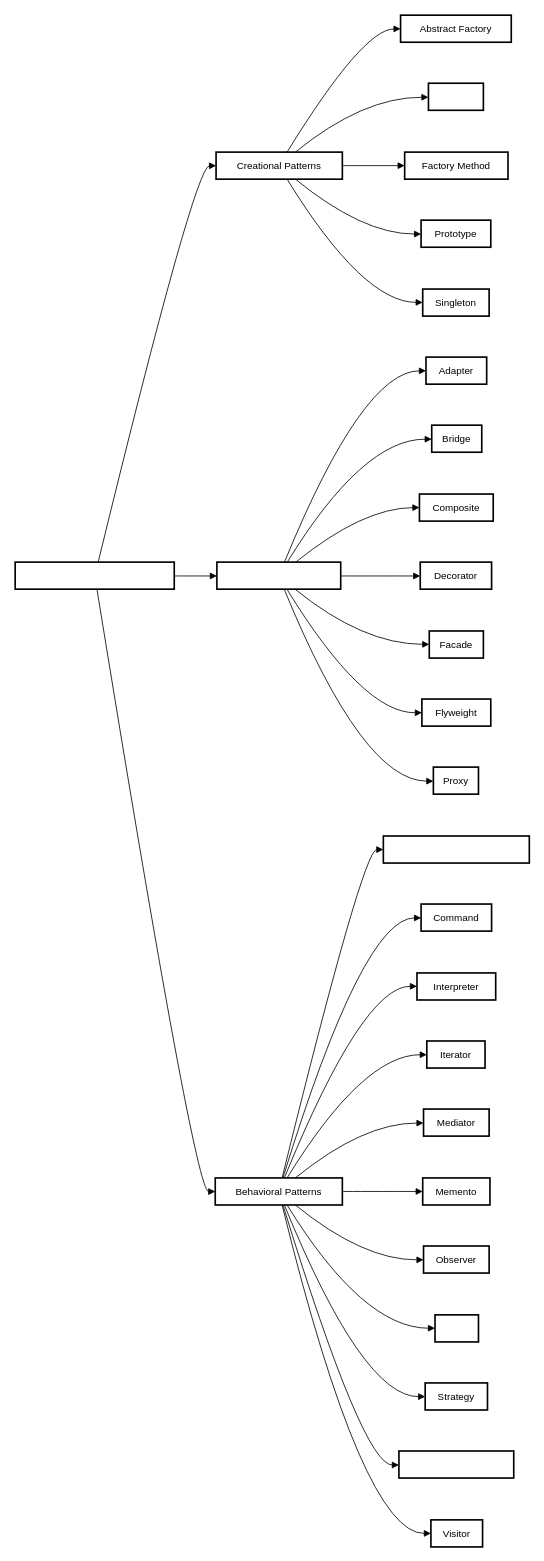
Image size: 544x1561. Some labels were removed from this diagram. The shapes that lost their labels are listed below. From the top down, each one's box as (x1, y1, x2, y2) in pixels, then its label:
(427, 82, 484, 111): Builder
(14, 561, 175, 590): Software Design Patterns
(216, 561, 341, 590): Structural Patterns
(382, 835, 530, 863): Chain of Responsibility
(434, 1314, 479, 1342): State
(398, 1450, 514, 1478): Template Method
